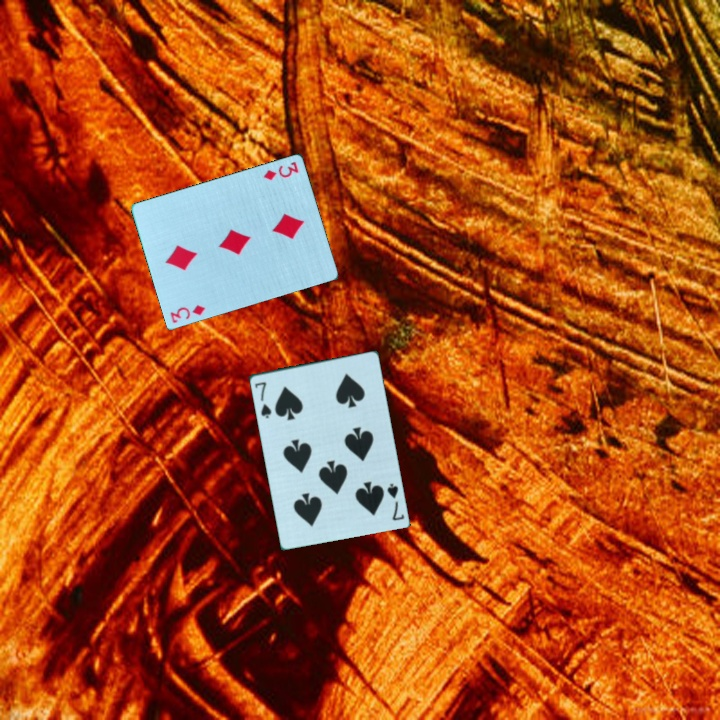3d: (260, 154, 302, 183), (167, 301, 208, 326)
7s: (383, 479, 407, 523), (251, 378, 274, 421)
